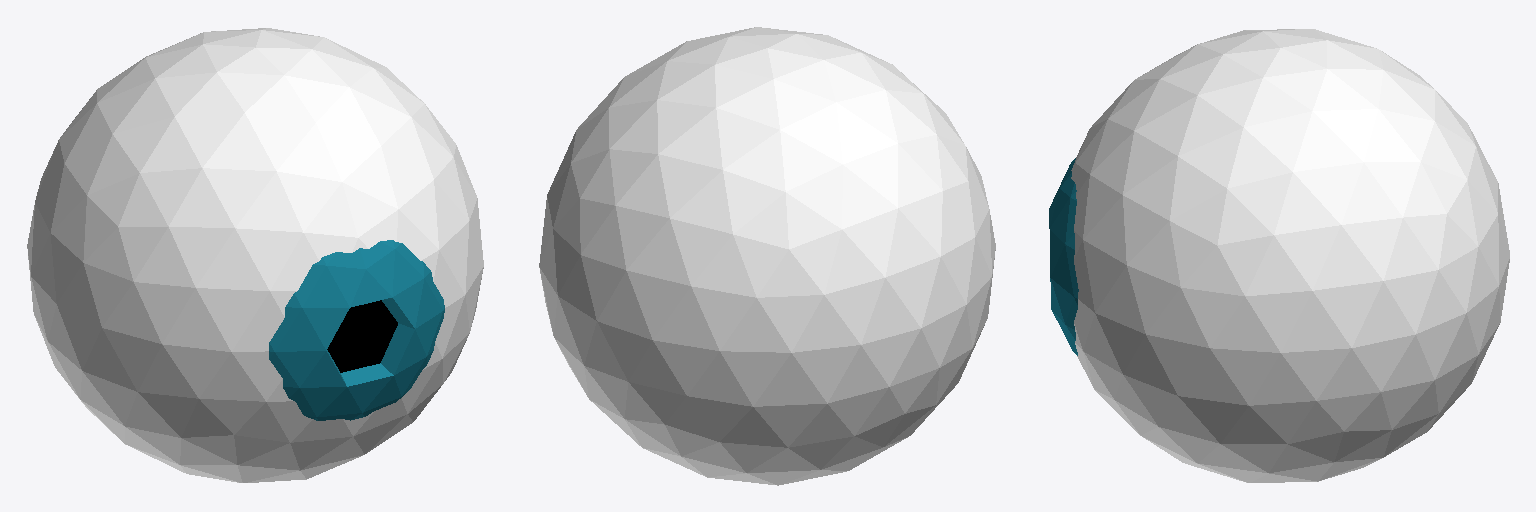
The model's file is eyeball.obj.
3 views of the same model, side by side, from view 1: azimuth 30°, elevation 25°; view 2: azimuth 150°, elevation 25°; view 3: azimuth 270°, elevation 25° (orthographic).
Parts seen in each view (by area): view 1: Icosphere, Icosphere.001, Plane; view 2: Icosphere; view 3: Icosphere, Icosphere.001.
Part boxes in pixels (x1,y1,x2,y2): Icosphere: (27, 28, 483, 482); Icosphere.001: (269, 240, 444, 420); Plane: (327, 300, 397, 372); Icosphere: (539, 27, 995, 485); Icosphere: (1071, 29, 1509, 482); Icosphere.001: (1049, 158, 1078, 355).
Bounding box in the file's own units: 1 × 1 × 1.